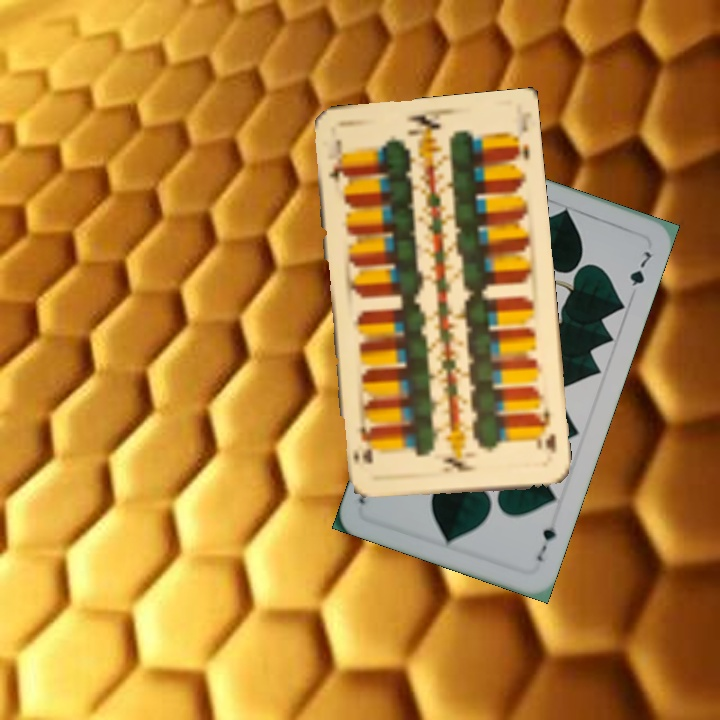E10: (532, 402, 559, 457), (324, 134, 351, 189)
G7: (532, 516, 559, 564)
